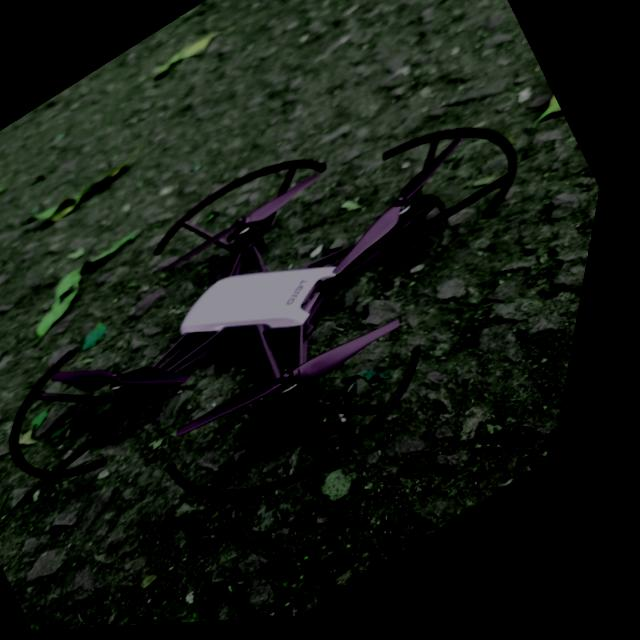drone: (17, 128, 530, 508)
